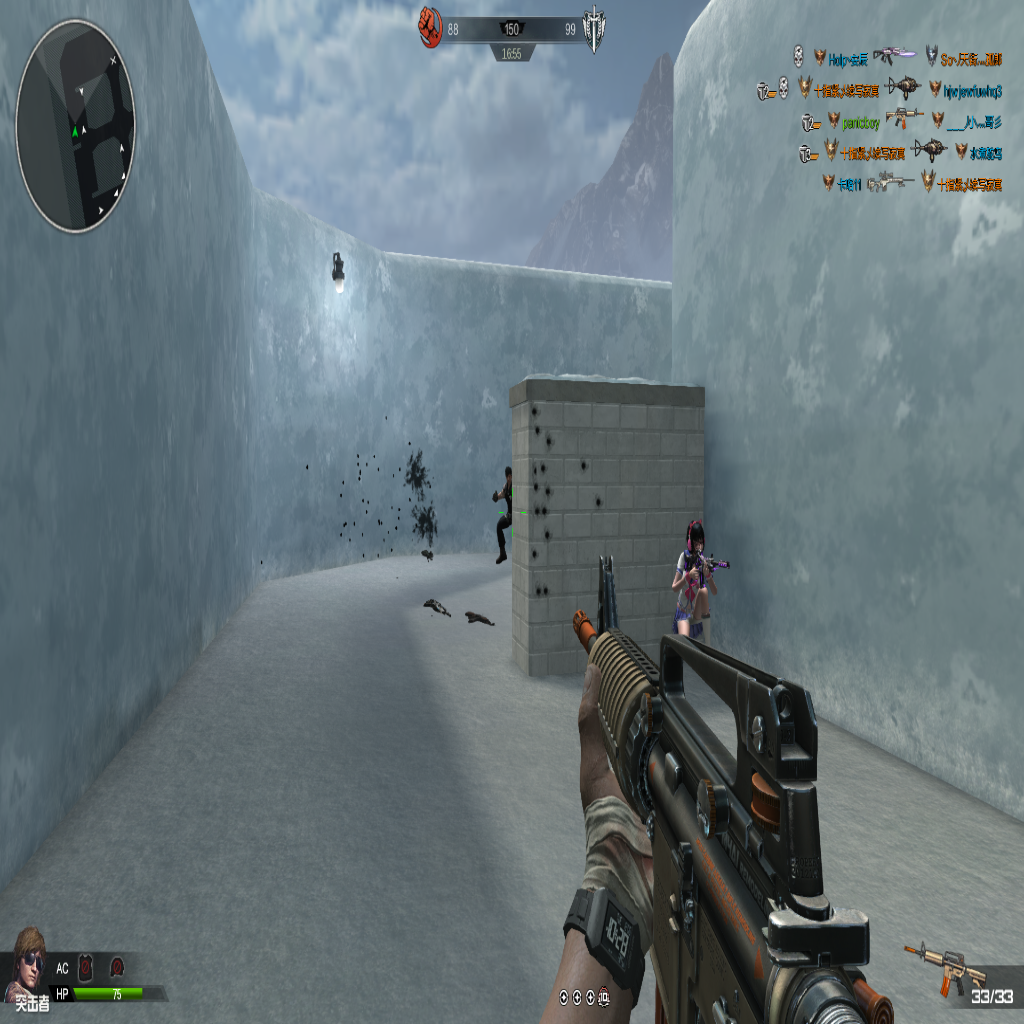ct: (492, 466, 513, 563)
